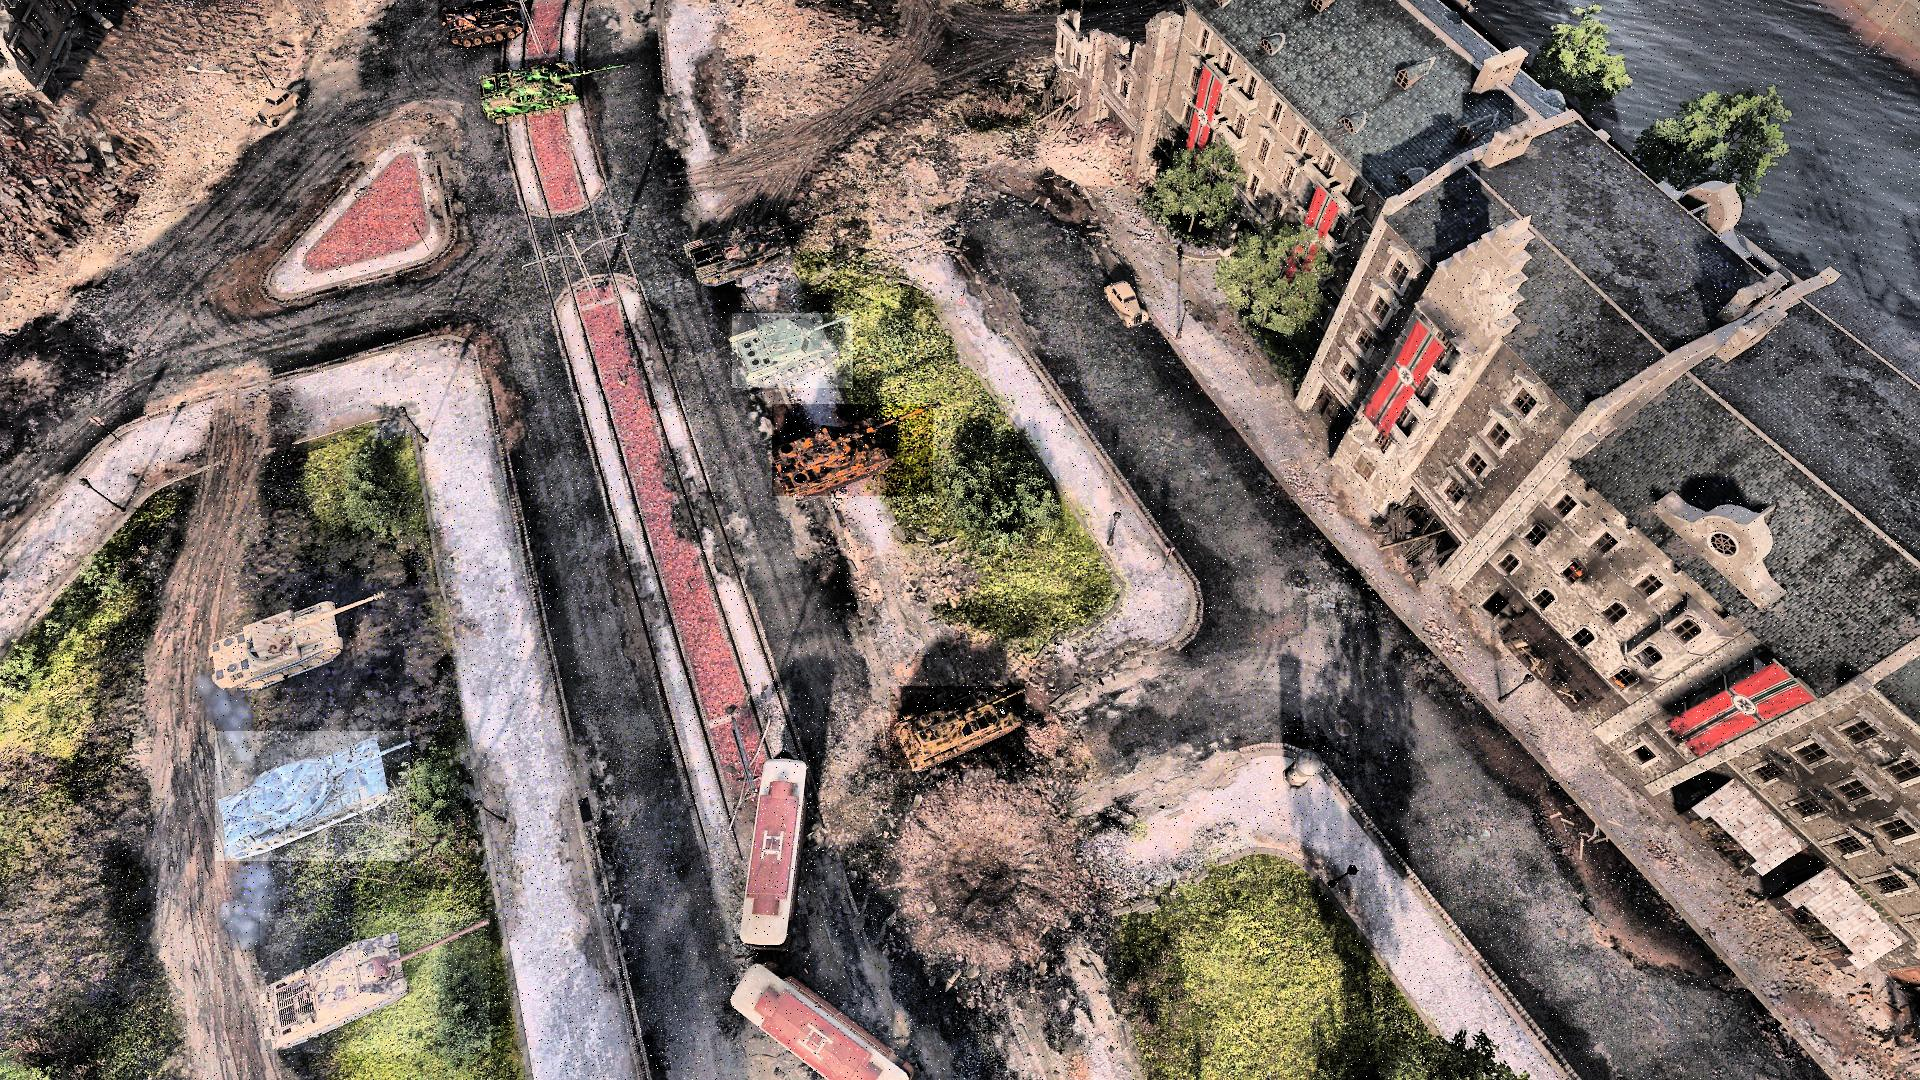military-vehicle: (260, 914, 491, 1054), (215, 732, 410, 861), (212, 592, 384, 695), (771, 405, 934, 497), (890, 687, 1025, 770), (732, 314, 853, 388), (480, 62, 625, 121), (684, 223, 810, 285), (438, 0, 530, 49)
